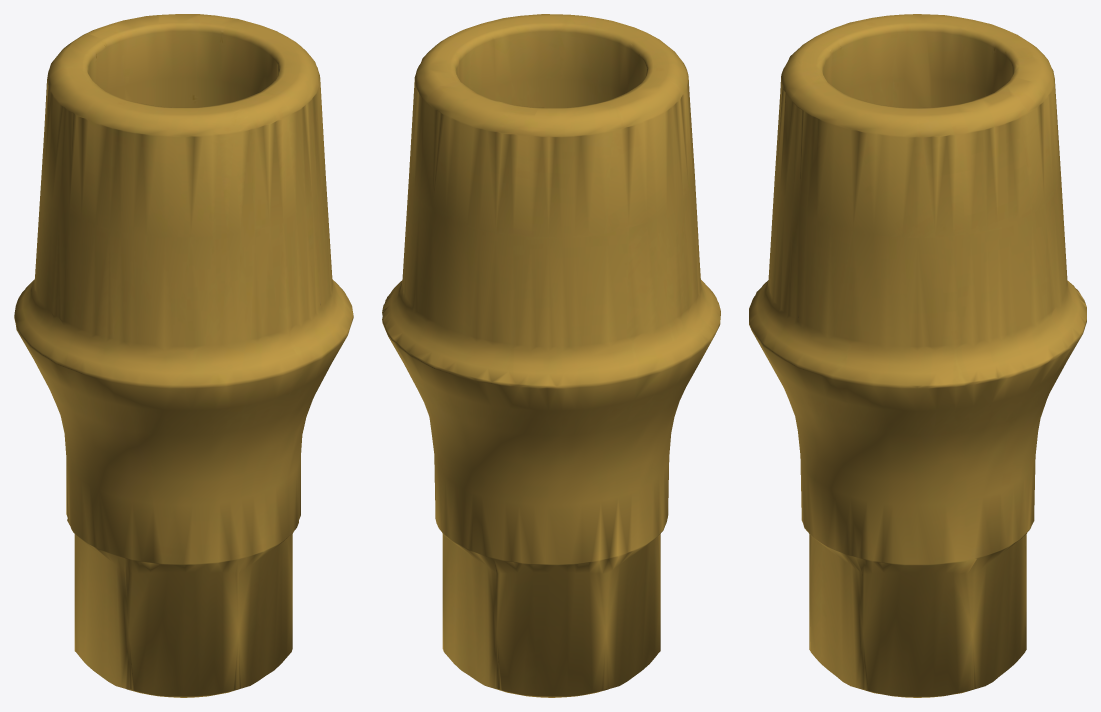
The model's file is implant-abutment-cleaned.glb.
The picture shows the model from 3 angles, left to right: view 1: azimuth 30°, elevation 25°; view 2: azimuth 150°, elevation 25°; view 3: azimuth 270°, elevation 25°; orthographic projection.
Parts seen in each view (by area): view 1: implant-abutment; view 2: implant-abutment; view 3: implant-abutment.
Part boxes in pixels (x1,y1,x2,y2): implant-abutment: (14,14,353,697); implant-abutment: (382,14,720,697); implant-abutment: (749,14,1086,697).
Size of the model in its own units: 0.4074 by 0.7916 by 0.4074.
1 material, 1 textured.
